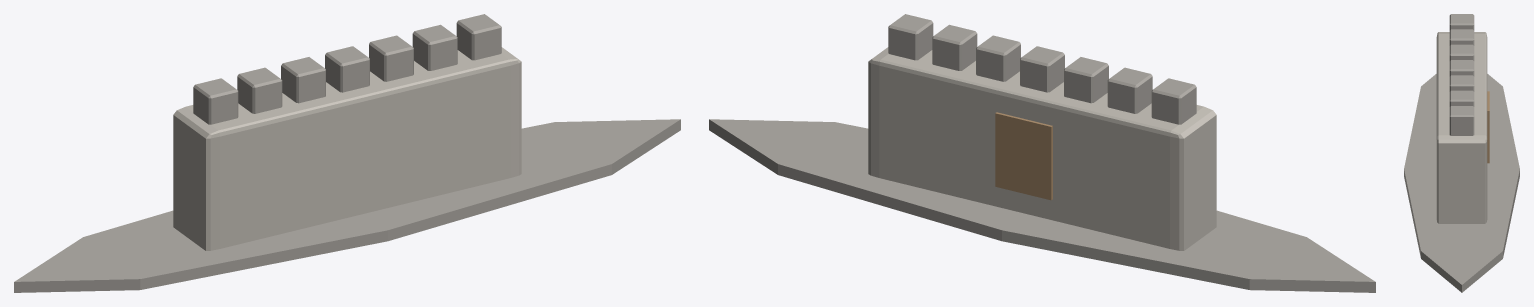
File: castle_wall_segment.glb
The picture shows the model from 3 angles, left to right: view 1: azimuth 30°, elevation 25°; view 2: azimuth 150°, elevation 25°; view 3: azimuth 270°, elevation 25°; orthographic projection. The views are drawn at different scales.
Visible parts, largest first — view 1: WallBody, WallGround, WallMerlon_0, WallMerlon_1, WallMerlon_6, WallMerlon_5, WallMerlon_3, WallMerlon_4, WallMerlon_2; view 2: WallBody, WallGround, WallDoor, WallMerlon_0, WallMerlon_1, WallMerlon_6, WallMerlon_5, WallMerlon_3, WallMerlon_4, WallMerlon_2; view 3: WallGround, WallBody, WallMerlon_6, WallMerlon_0, WallMerlon_3, WallMerlon_1, WallMerlon_2, WallMerlon_4, WallMerlon_5, WallDoor.
Part boxes in pixels (bbox=[...]): WallBody: bbox=[173, 47, 521, 250]; WallGround: bbox=[14, 119, 680, 292]; WallMerlon_0: bbox=[193, 78, 238, 124]; WallMerlon_1: bbox=[237, 67, 282, 113]; WallMerlon_6: bbox=[456, 14, 501, 60]; WallMerlon_5: bbox=[412, 24, 457, 70]; WallMerlon_3: bbox=[325, 46, 369, 92]; WallMerlon_4: bbox=[369, 35, 413, 81]; WallMerlon_2: bbox=[281, 57, 325, 103]; WallBody: bbox=[868, 47, 1216, 250]; WallGround: bbox=[709, 119, 1375, 292]; WallDoor: bbox=[995, 112, 1052, 200]; WallMerlon_0: bbox=[1151, 78, 1196, 124]; WallMerlon_1: bbox=[1107, 67, 1152, 113]; WallMerlon_6: bbox=[888, 14, 933, 60]; WallMerlon_5: bbox=[932, 24, 977, 70]; WallMerlon_3: bbox=[1020, 46, 1064, 92]; WallMerlon_4: bbox=[976, 35, 1020, 81]; WallMerlon_2: bbox=[1064, 57, 1108, 103]; WallGround: bbox=[1404, 74, 1519, 292]; WallBody: bbox=[1436, 32, 1487, 223]; WallMerlon_6: bbox=[1449, 106, 1474, 135]; WallMerlon_0: bbox=[1449, 14, 1474, 30]; WallMerlon_3: bbox=[1449, 60, 1474, 76]; WallMerlon_1: bbox=[1449, 29, 1474, 45]; WallMerlon_2: bbox=[1449, 44, 1474, 60]; WallMerlon_4: bbox=[1449, 75, 1474, 91]; WallMerlon_5: bbox=[1449, 90, 1474, 106]; WallDoor: bbox=[1487, 91, 1489, 163].
Bounding box in the file's own units: 7.6 × 1.71 × 1.6.
